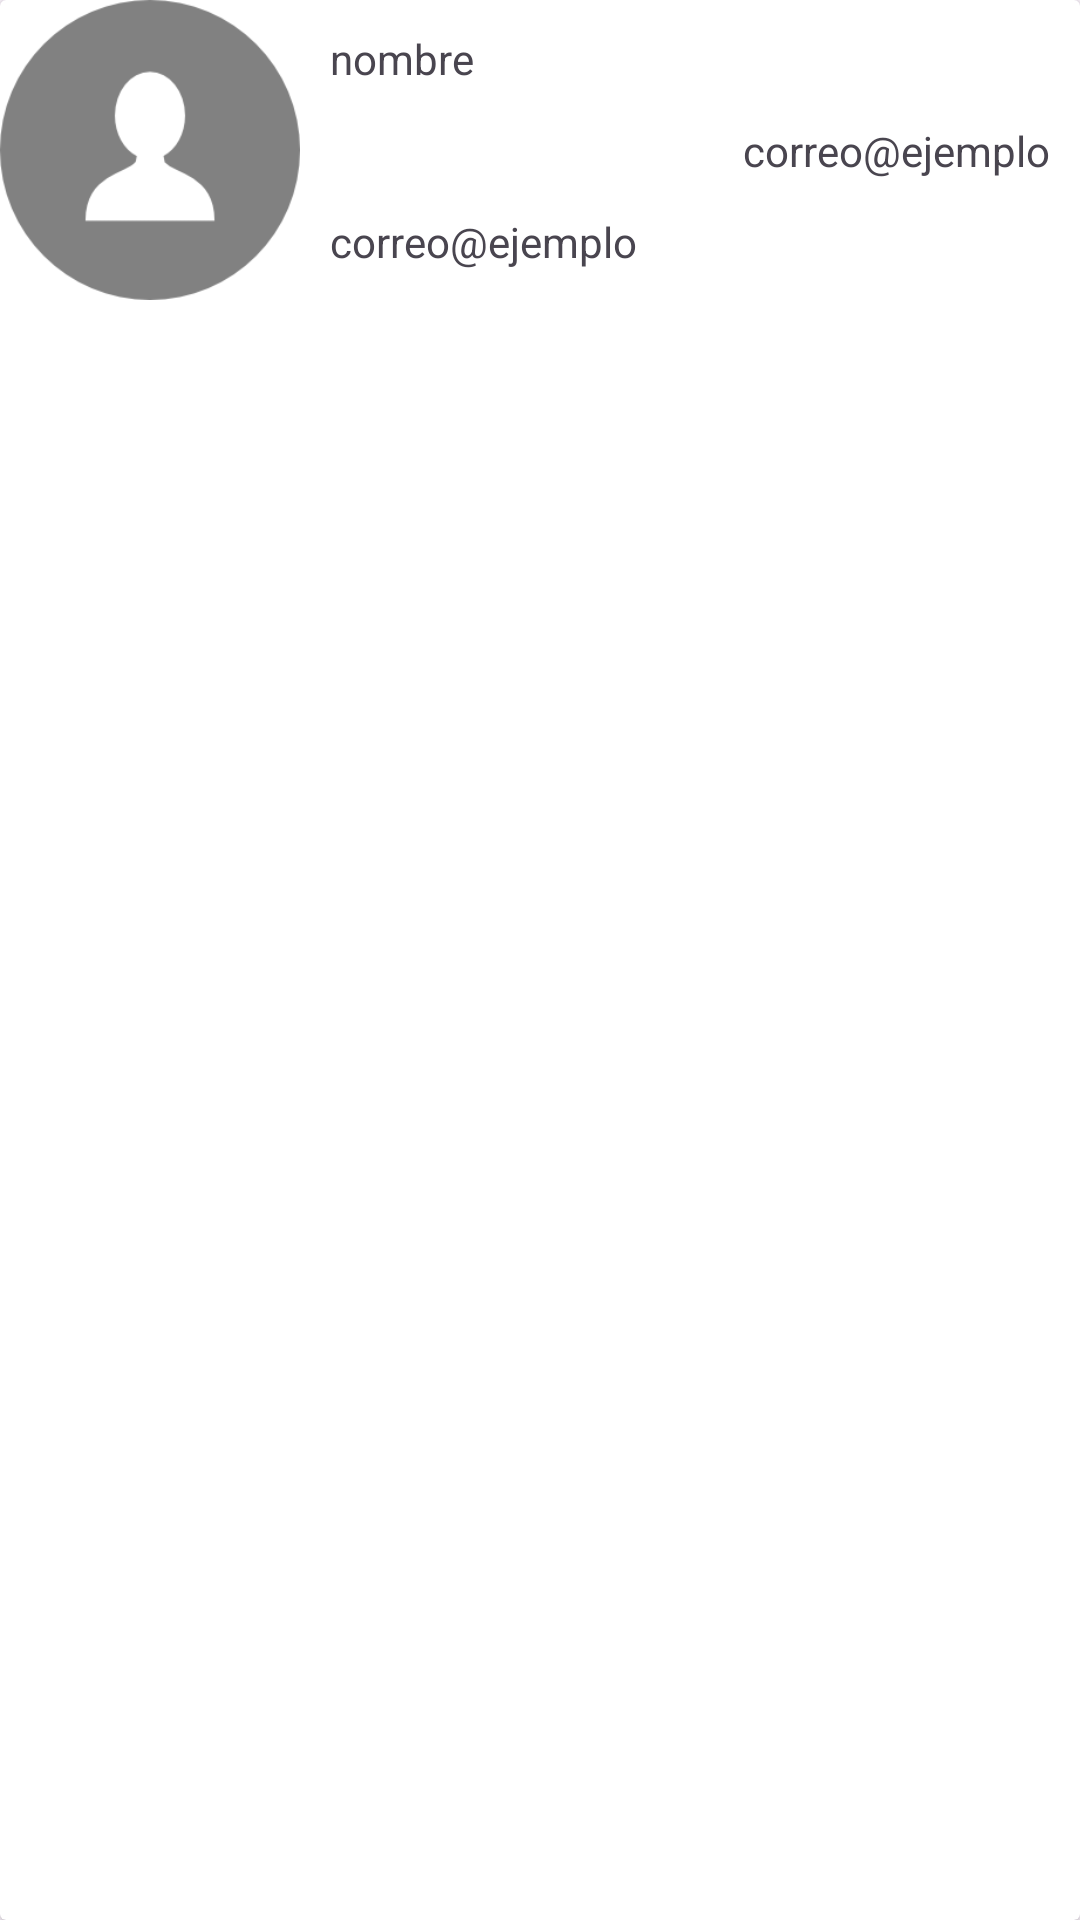

Icons on this 1080px x 1920px Android screen, each with the point to tap as (x=x, y=y):
contacto: (x=150, y=150)
